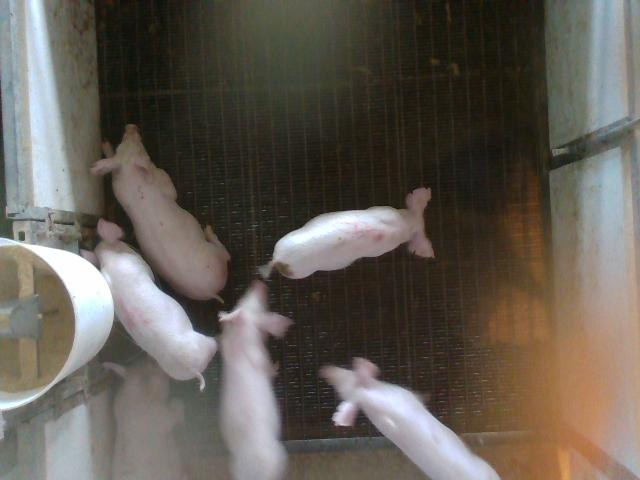pig-4: (81, 219, 218, 389)
pig-5: (259, 188, 434, 278)
